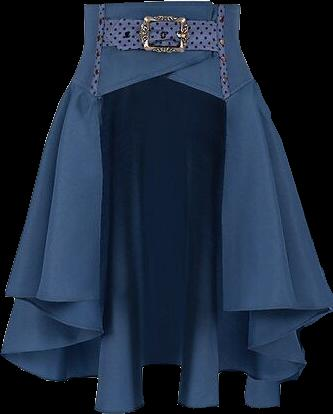Hemline: (0, 75, 332, 366)
Waistline: (69, 72, 255, 101), (83, 0, 242, 7)
